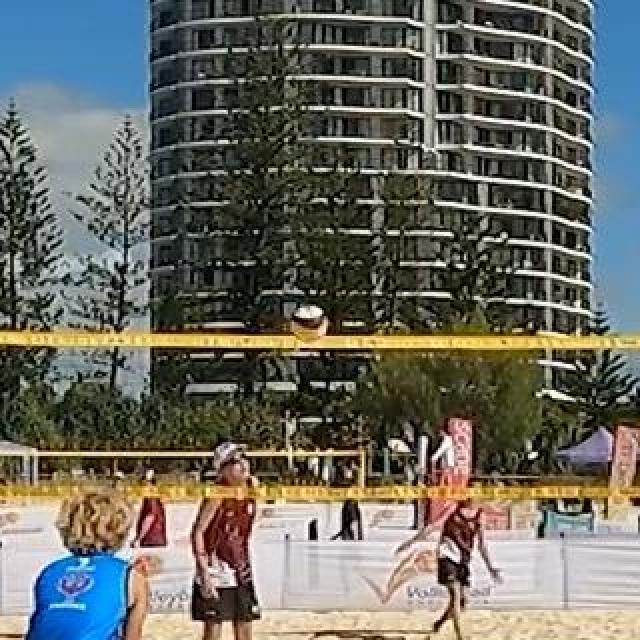volleyball: (290, 305, 330, 341)
